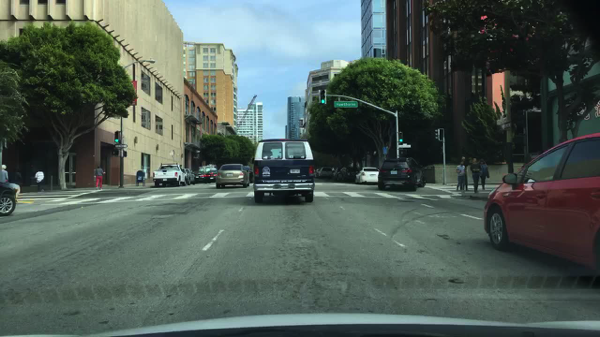car: (482, 132, 599, 280), (250, 137, 317, 205), (376, 158, 427, 194), (214, 163, 250, 190), (0, 179, 19, 219), (353, 166, 388, 187), (332, 165, 361, 184), (182, 168, 198, 186), (314, 166, 335, 179), (203, 169, 220, 184), (192, 171, 207, 186), (197, 164, 218, 173), (244, 169, 255, 186)
person: (0, 161, 24, 207), (92, 162, 110, 193), (454, 159, 469, 191), (469, 156, 481, 195), (479, 157, 491, 191), (460, 155, 470, 194), (10, 166, 24, 191), (32, 167, 45, 190)
traffic light: (317, 88, 330, 107), (111, 150, 122, 158), (113, 130, 120, 142), (434, 127, 439, 141), (399, 132, 404, 144), (123, 150, 130, 158)
traffic sign: (130, 79, 139, 106), (333, 100, 359, 109), (494, 117, 511, 126), (499, 122, 519, 129), (114, 143, 128, 150), (381, 145, 389, 156), (399, 145, 411, 150)
truck: (151, 162, 188, 189)
